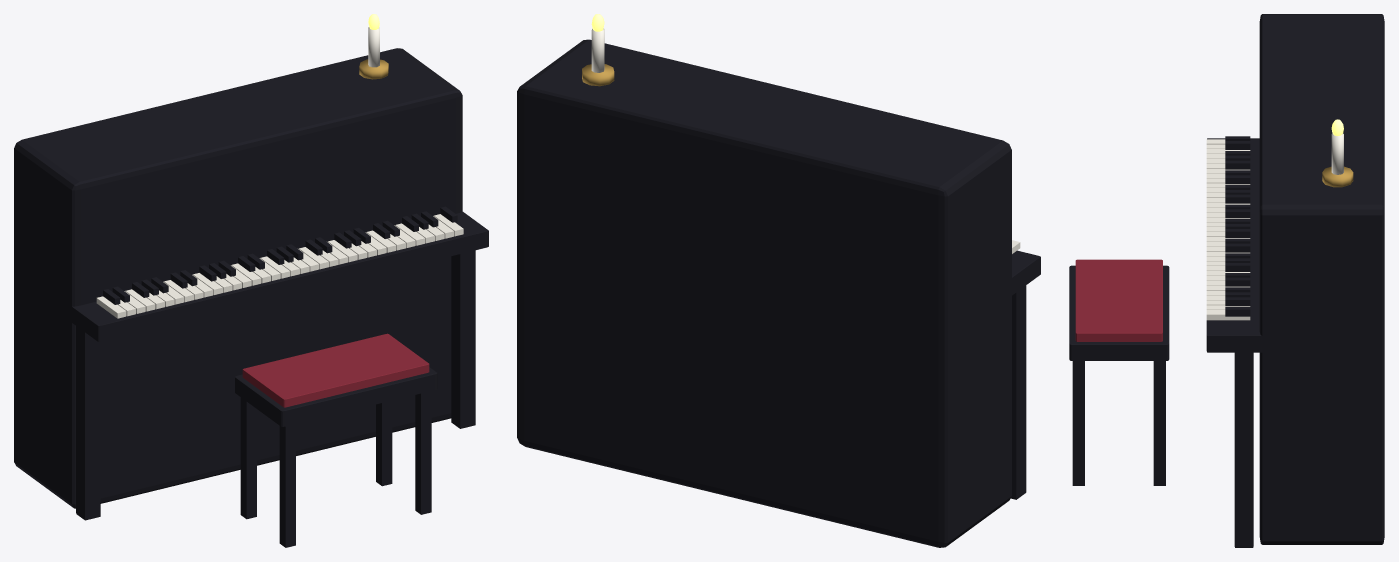
Rendered from piano.glb.
The picture shows the model from 3 angles, left to right: view 1: azimuth 30°, elevation 25°; view 2: azimuth 150°, elevation 25°; view 3: azimuth 270°, elevation 25°; orthographic projection. The views are drawn at different scales.
Visible parts, largest first — view 1: piano; view 2: piano; view 3: piano.
Boxes of the visible parts, left/top/right/bottom form: piano: left=14, top=14, right=488, bottom=547; piano: left=517, top=14, right=1040, bottom=547; piano: left=1069, top=14, right=1384, bottom=547.
Bounding box in the file's own units: 1.5 × 1.42 × 1.01.
Materials: 2 (2 with a texture image).
